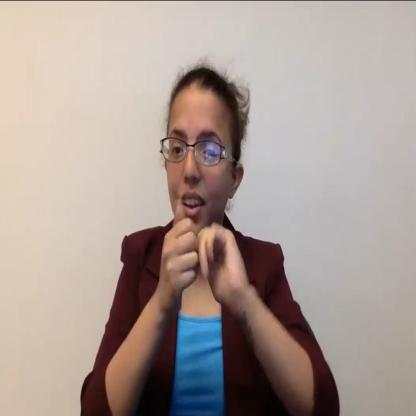HowAreYou: (156, 208, 252, 344)
